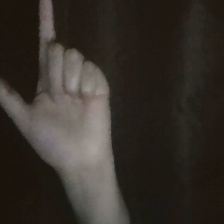L: (1, 1, 129, 181)
